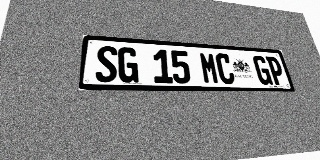1: (152, 49, 173, 83)
5: (170, 50, 191, 84)
C: (215, 53, 236, 84)
G: (118, 47, 139, 83), (252, 55, 273, 85)
M: (199, 52, 220, 84)
P: (265, 56, 287, 85)
S: (95, 45, 117, 82)
